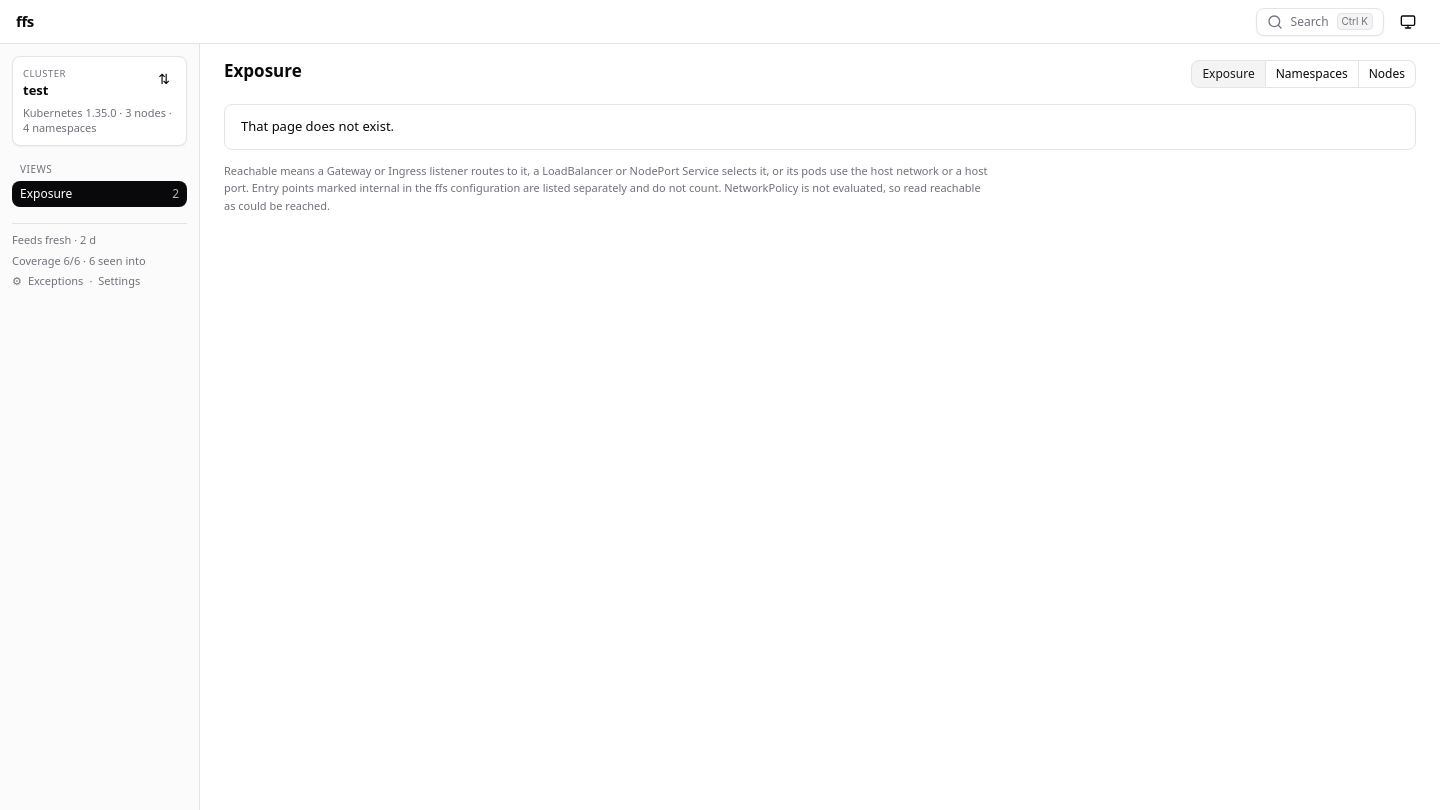
Test: does not ask to refine a search that listed everything
Type keys "{Control>}k{/Control}"
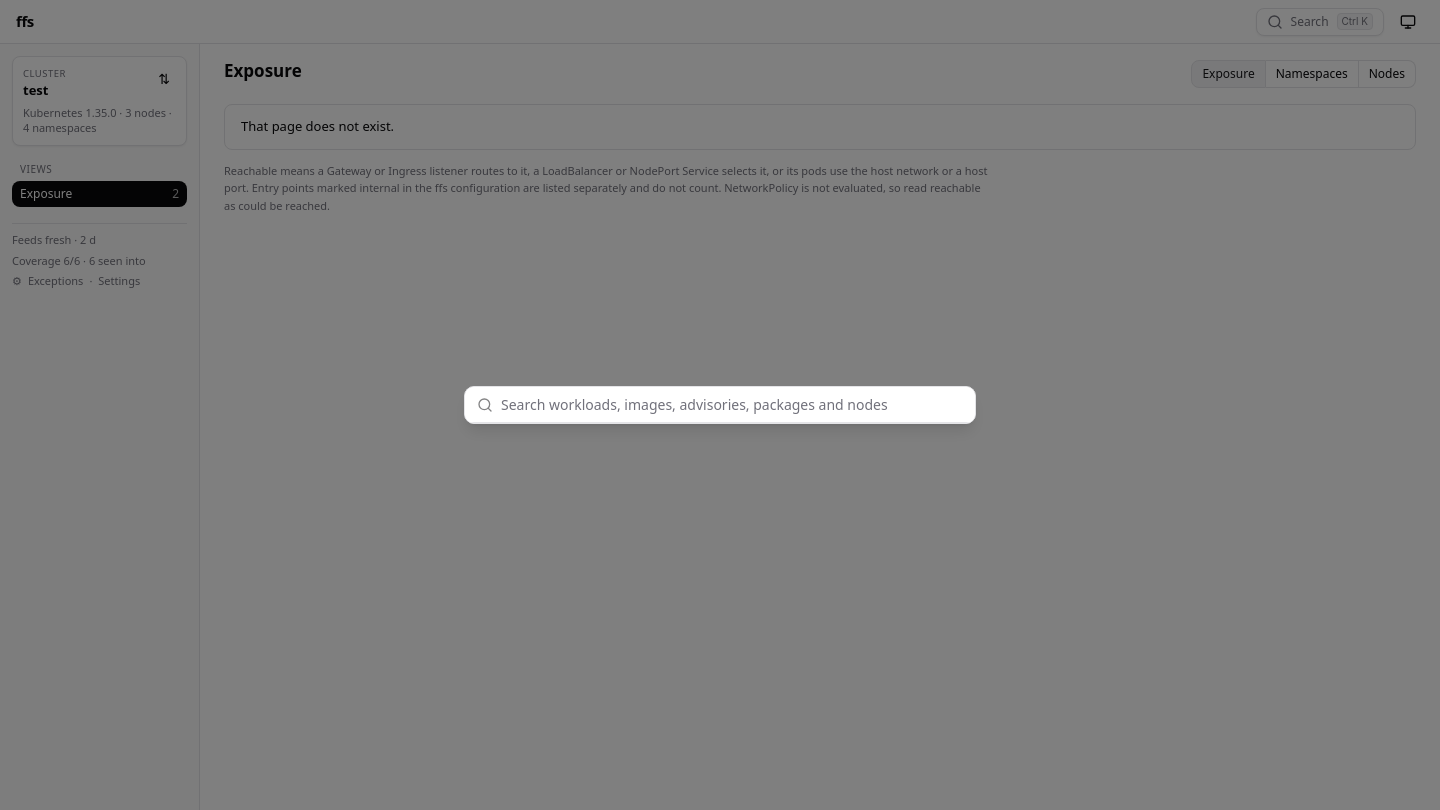
Type "kube" into the dropdown at (732, 404), box top-left (501, 384), bottom-right (963, 424)
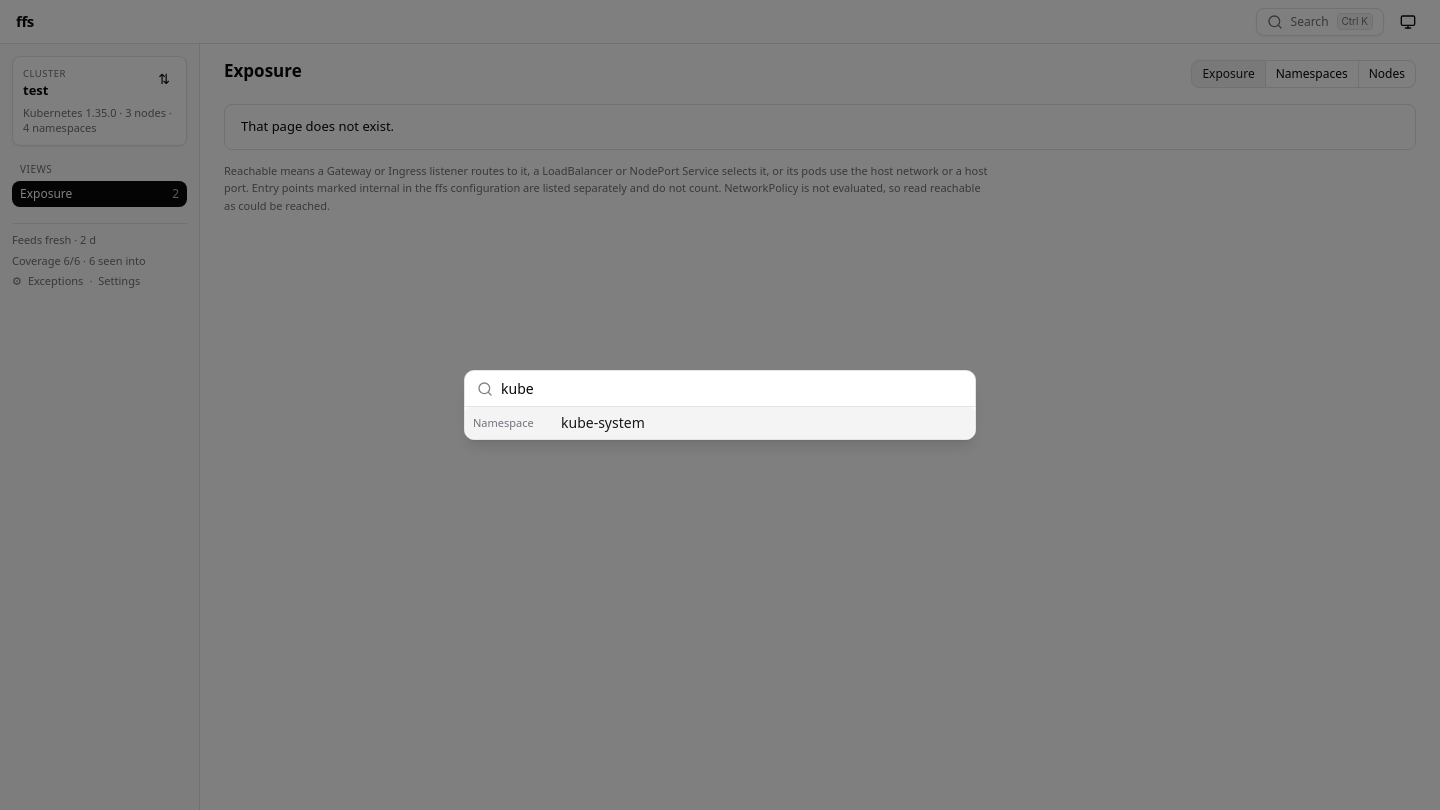
Check: the option "Namespace kube-system" is shown, box top-left (465, 407), bottom-right (975, 439)
